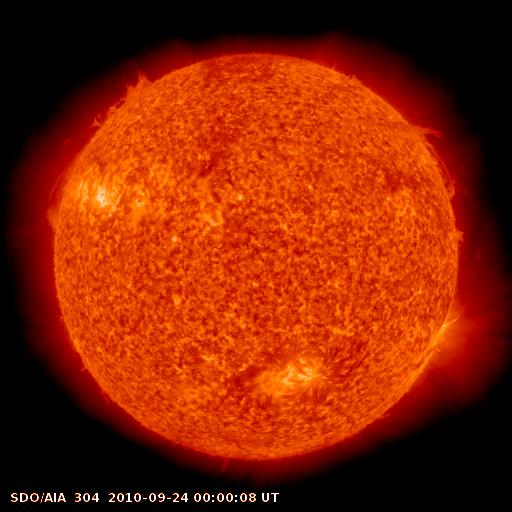prominence: (406, 113, 472, 208), (81, 63, 165, 132), (36, 157, 82, 251), (449, 216, 486, 267)
